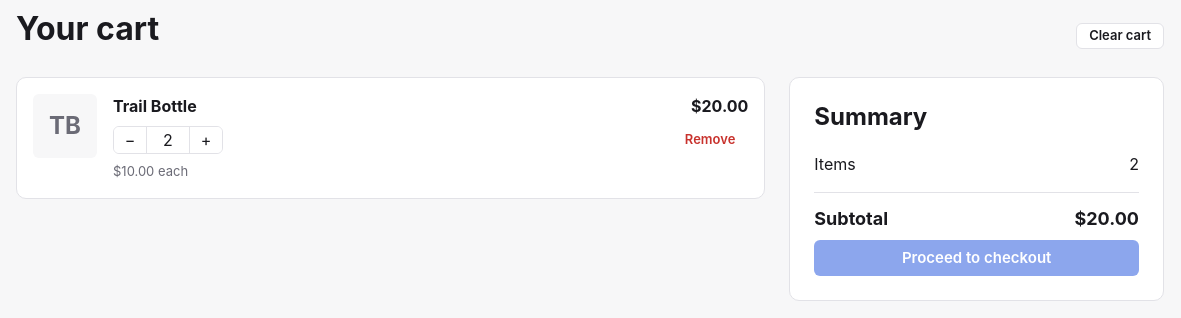
CartPage › updates a line quantity via the API
expect the text "Trail Bottle" is shown: met, box [113,94,197,118]
Click the button "+": coordinates (206, 140) [190,127,222,153]
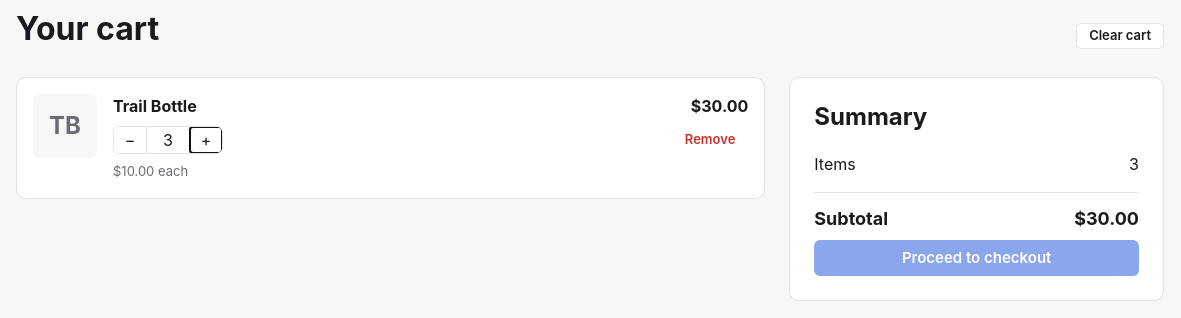
expect the number field named "Quantity for Trail Bottle" holds "3": met, box [146,127,190,153]
expect the text "$30.00" in the row of "Subtotal" is shown: met, box [1074,208,1139,229]
